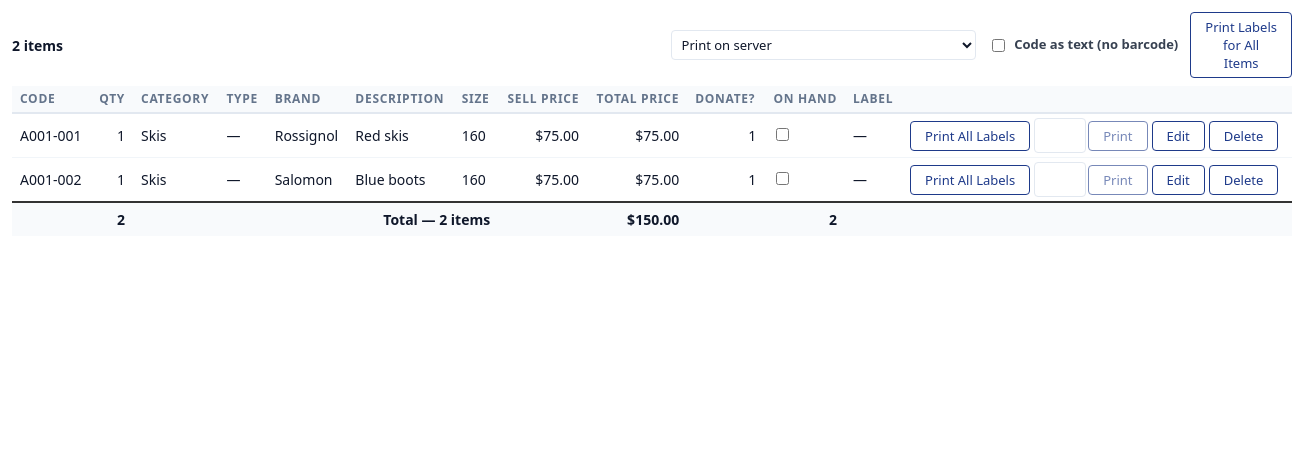
ItemList › opening a second Edit panel closes the first
What coordinates should you click on to do the following:
click the button "Edit" in the row of "A001-001"
I would click on:
 (1178, 136)
Its box is [1152,121,1205,151].
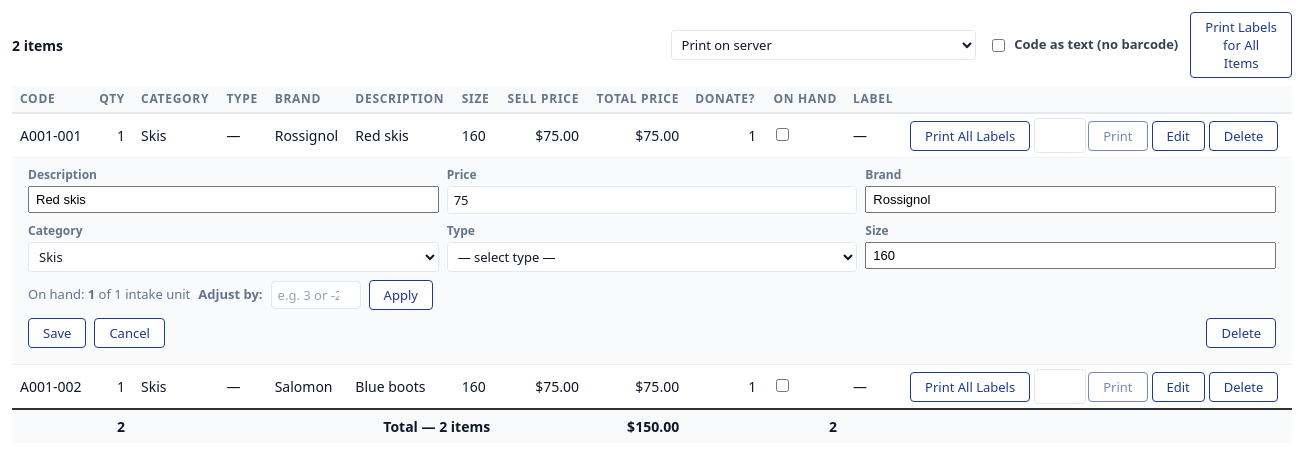
Check: the 1st field showing "Red skis" is shown, box [28,186,439,213]
What coordinates should you click on to do the following:
click the button "Edit" in the row of "A001-002"
I would click on:
 (1178, 387)
Its box is [1152,372,1205,402].
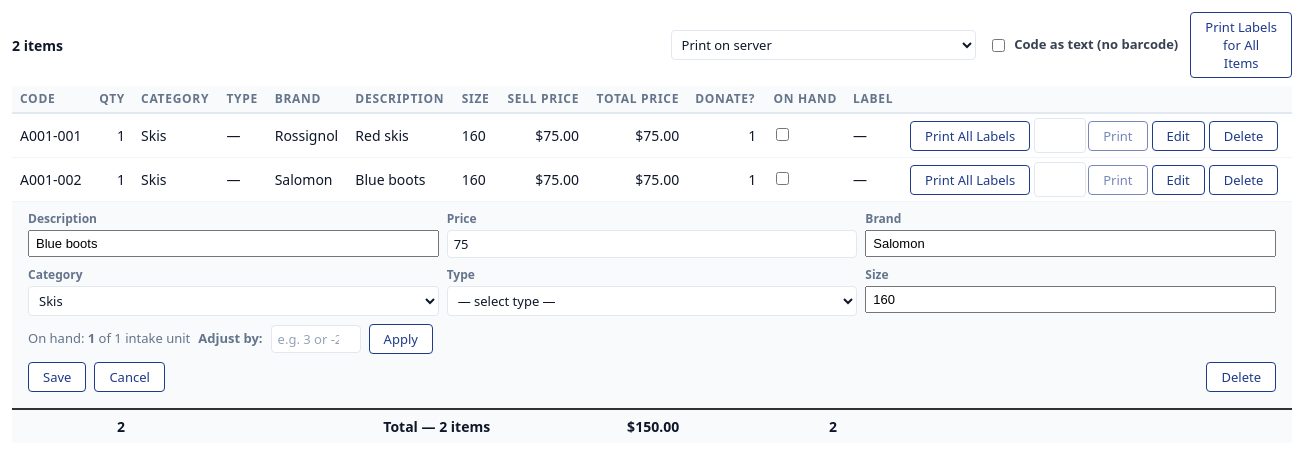
Check: the 1st field showing "Blue boots" is shown, box [28,230,439,257]
